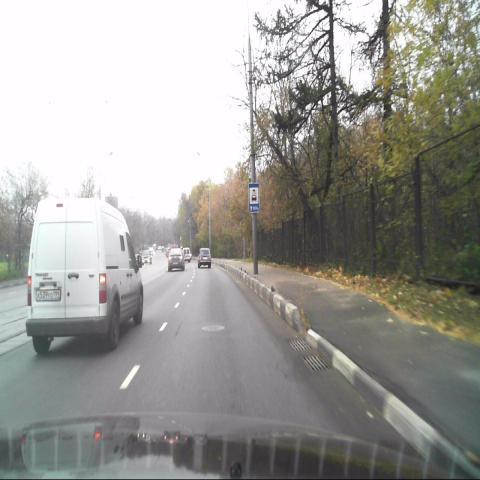7_5: (248, 183, 259, 212)
